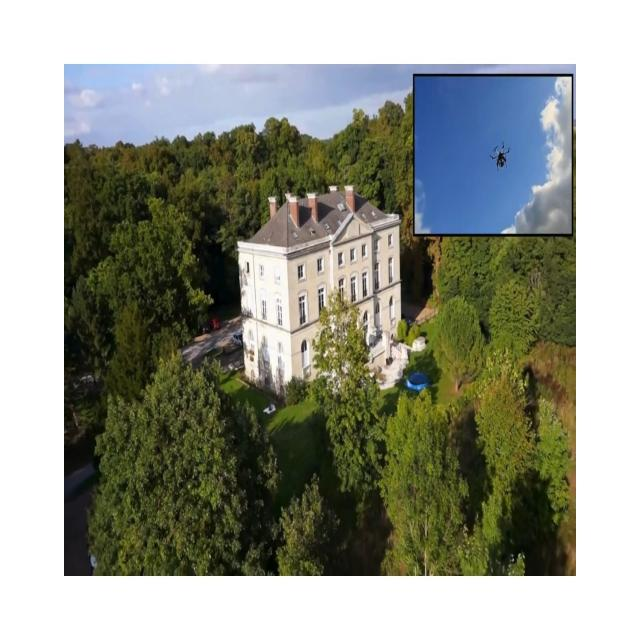drone: (490, 141, 510, 170)
